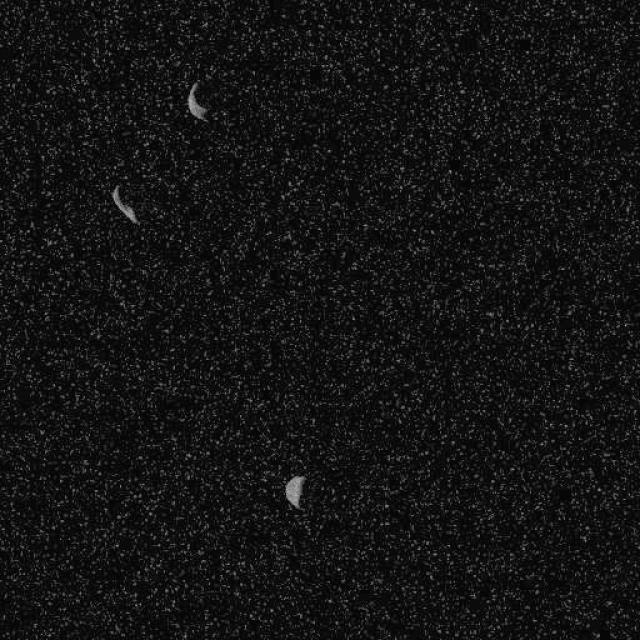D2: (109, 183, 139, 225), (185, 80, 209, 121), (284, 474, 306, 508)
